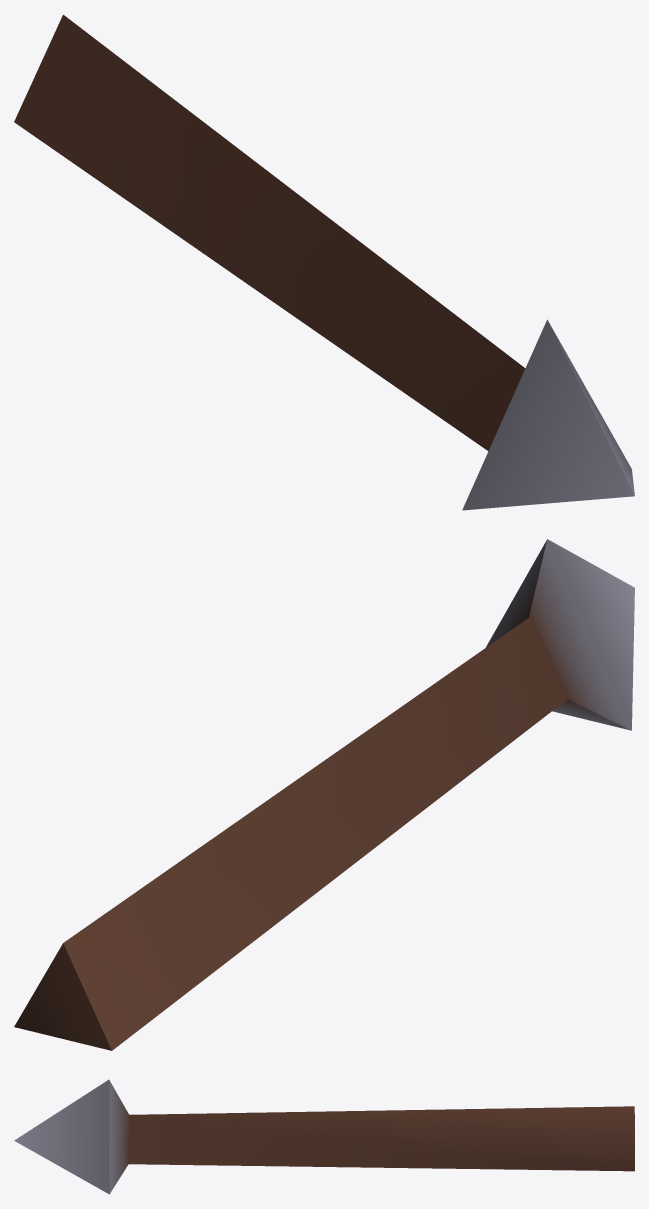
The model's file is human_arrow_projectile.fbx.
3 renders of one model, top to bottom at view 1: azimuth 30°, elevation 25°; view 2: azimuth 150°, elevation 25°; view 3: azimuth 270°, elevation 25°, orthographic. The views are drawn at different scales.
Parts seen in each view (by area): view 1: hum_arrowprojectile; view 2: hum_arrowprojectile; view 3: hum_arrowprojectile.
Boxes of the visible parts, box(x1,y1,x2,y2) form: hum_arrowprojectile: box(14, 14, 634, 510); hum_arrowprojectile: box(14, 539, 634, 1050); hum_arrowprojectile: box(14, 1079, 634, 1194).
Size of the model in its own units: 0.1455 by 0.849 by 0.1399.
